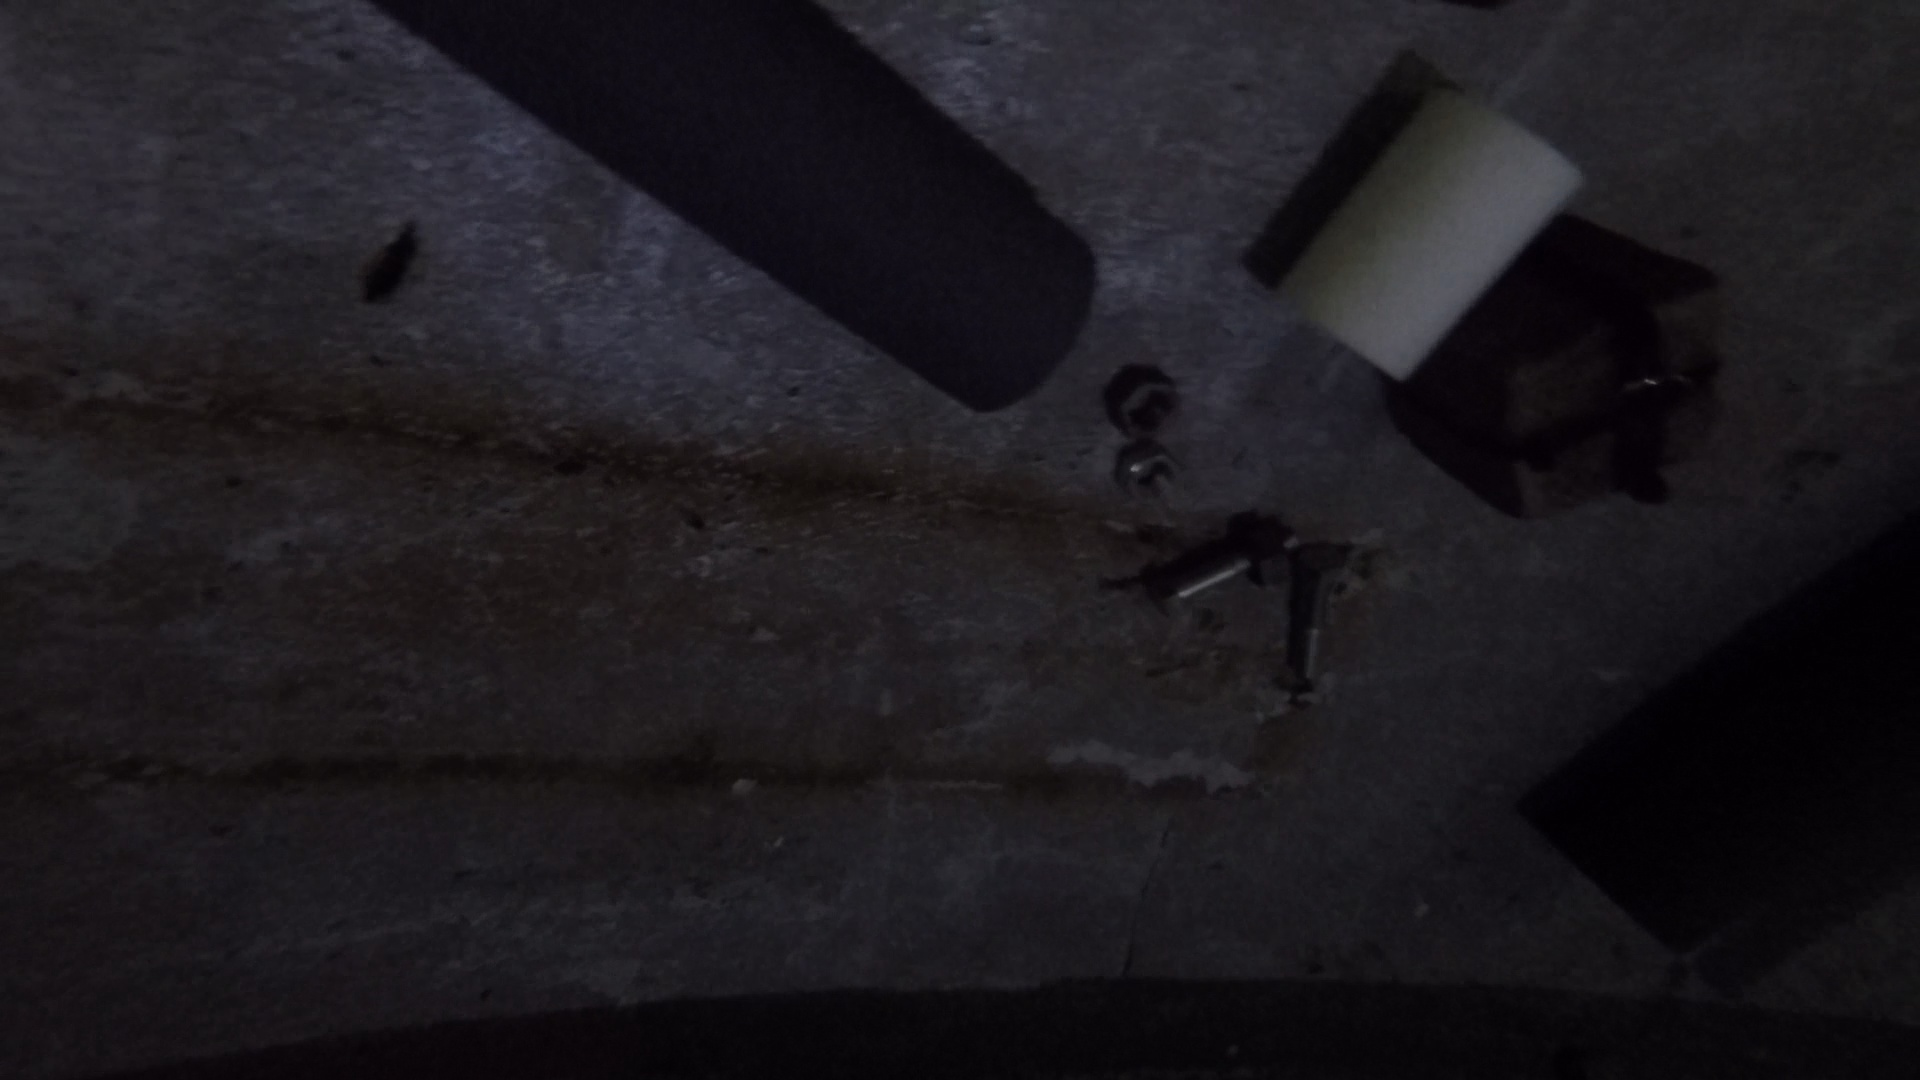bolt: (1145, 530, 1298, 618), (1298, 545, 1346, 680)
led_block: (1382, 214, 1721, 524)
nut: (1105, 364, 1182, 439), (1114, 443, 1183, 506), (1236, 520, 1290, 589)
pipe: (382, 1, 1096, 415), (1271, 84, 1584, 386)
